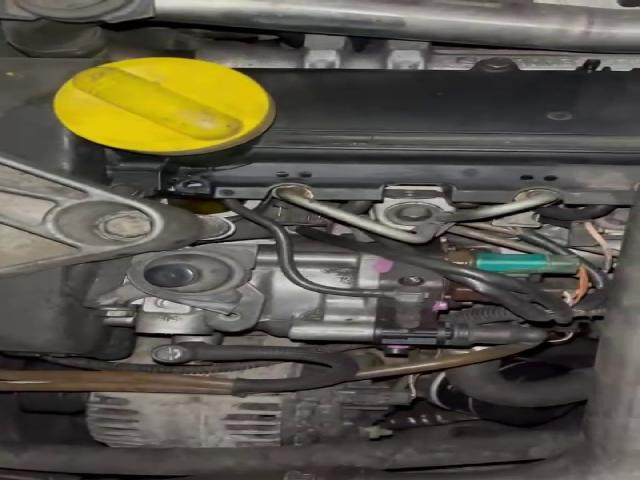alternator: (86, 392, 285, 447)
high_pressure_pump: (135, 250, 548, 354)
